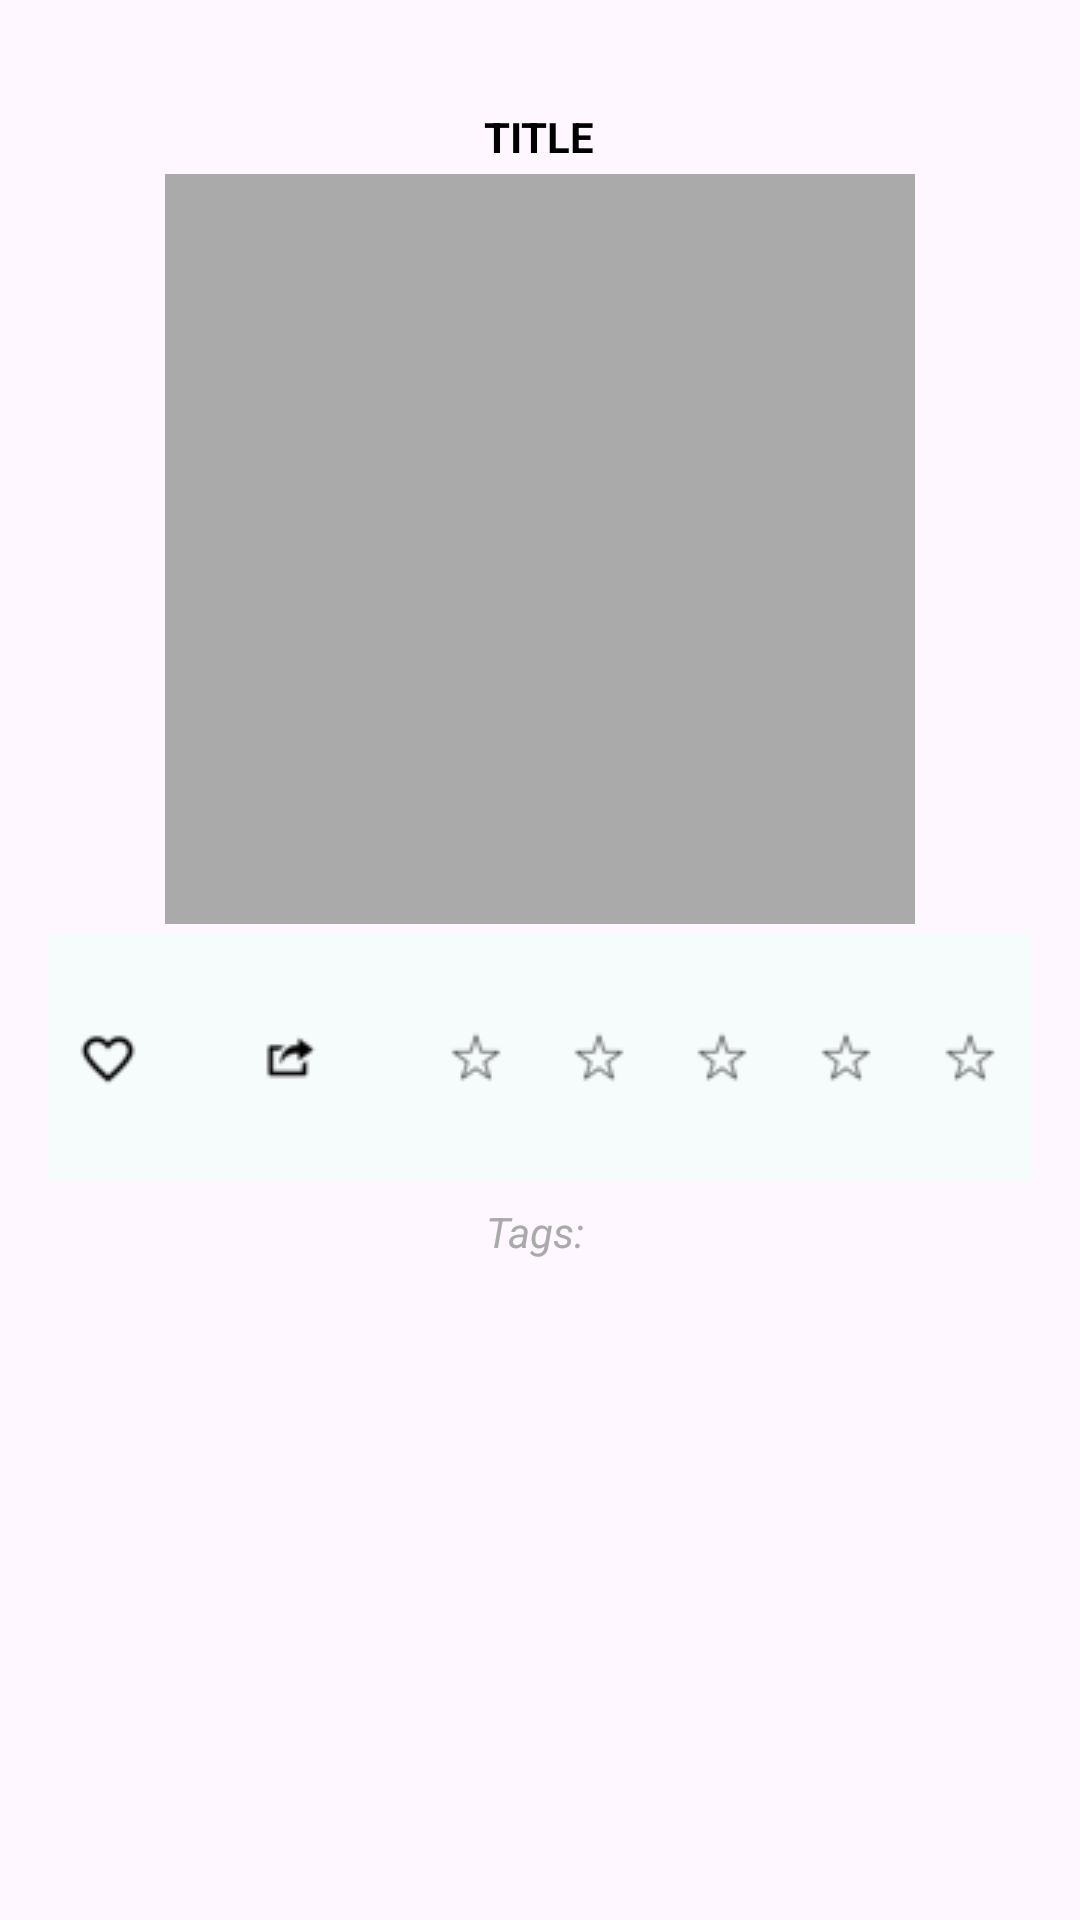

Icon bounding boxes for this 1080w x 1920h phone screenshot, format (x1, y1, x2, y2):
Like Button: (80, 1035, 136, 1083)
Rate Button: (451, 1035, 501, 1081), (574, 1035, 624, 1081), (697, 1035, 747, 1081), (821, 1035, 871, 1081), (945, 1035, 995, 1081)
Share Button: (266, 1038, 315, 1078)
